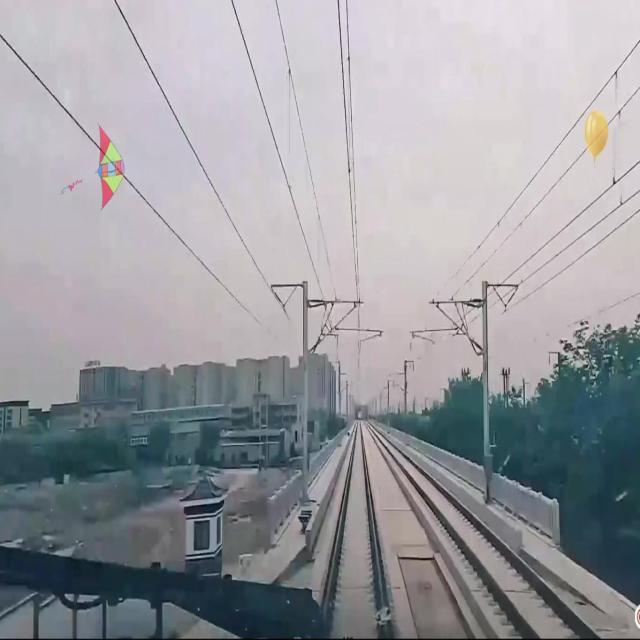balloon: (582, 106, 610, 161)
floating object: (95, 123, 125, 210), (58, 174, 84, 198)
